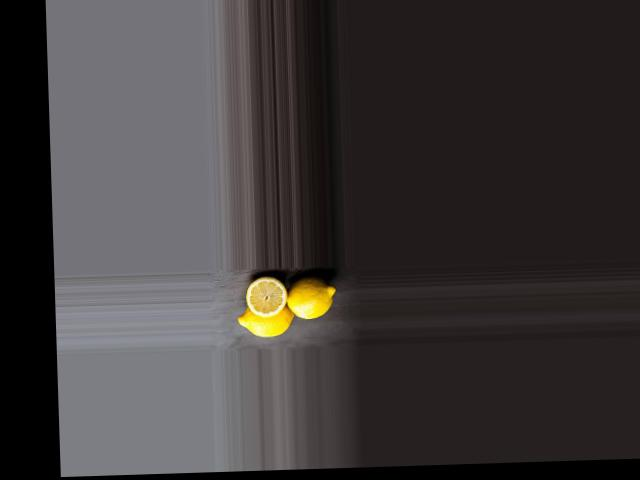lemon: (234, 301, 295, 342)
